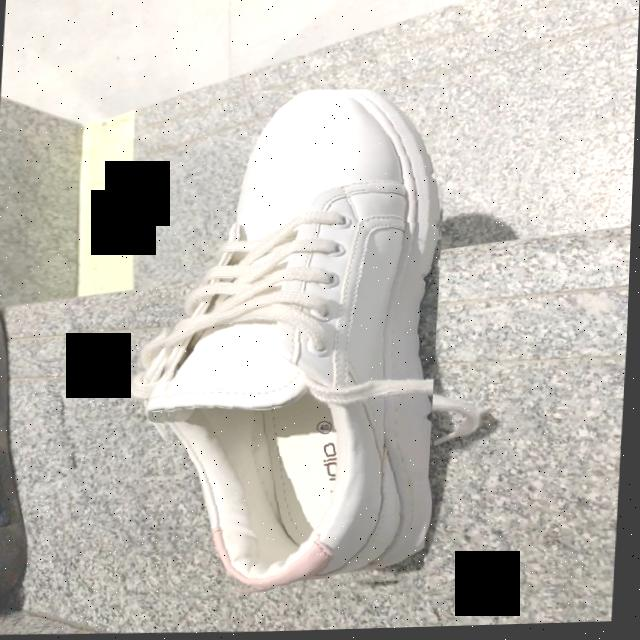shoe: (165, 91, 435, 593)
